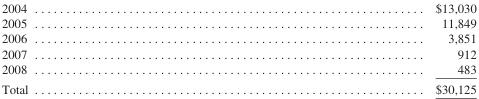table: (0, 0, 475, 95)
table column: (231, 0, 475, 95), (0, 0, 231, 95)
table row: (0, 60, 475, 78), (0, 78, 475, 95), (0, 0, 475, 15), (0, 15, 475, 30), (0, 30, 475, 45), (0, 45, 475, 60)
